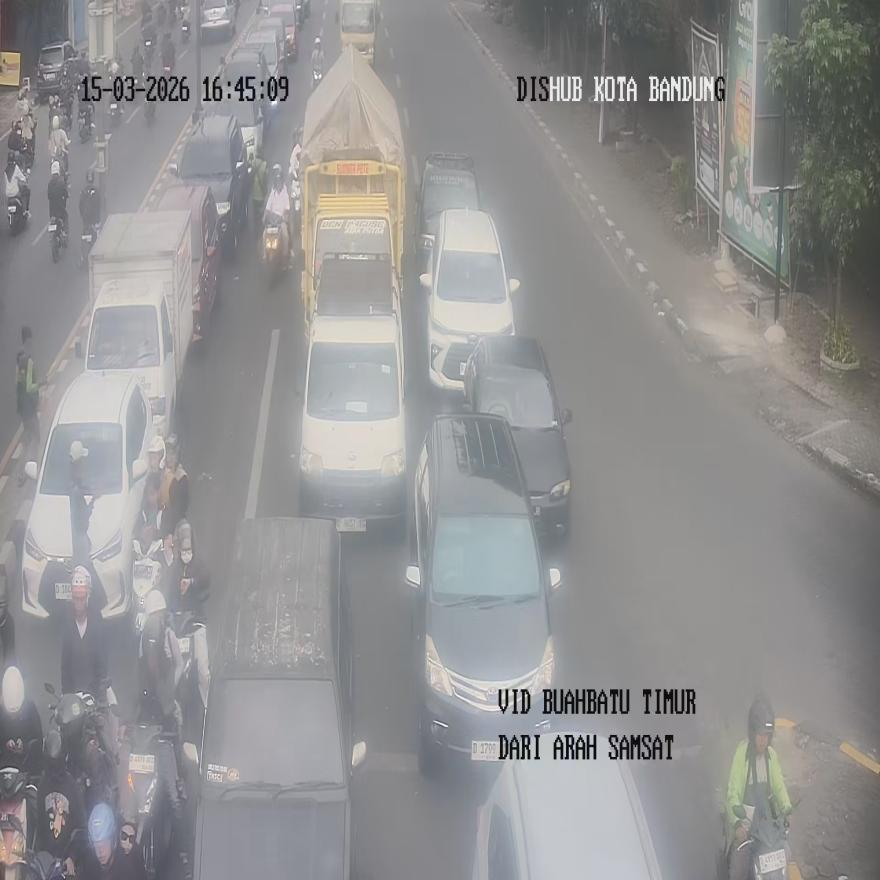Motor: (183, 518, 366, 878), (404, 413, 562, 774), (21, 372, 154, 620), (471, 732, 663, 879), (76, 211, 194, 445), (462, 334, 572, 536), (419, 210, 519, 396), (170, 109, 251, 261), (416, 152, 479, 276)
Truk: (44, 684, 119, 819), (126, 720, 184, 879), (0, 739, 40, 880), (724, 802, 790, 880), (262, 212, 290, 278), (7, 166, 30, 235), (48, 211, 67, 262), (80, 220, 98, 269), (78, 101, 94, 143), (312, 37, 324, 88), (108, 98, 121, 128), (181, 9, 190, 42)
